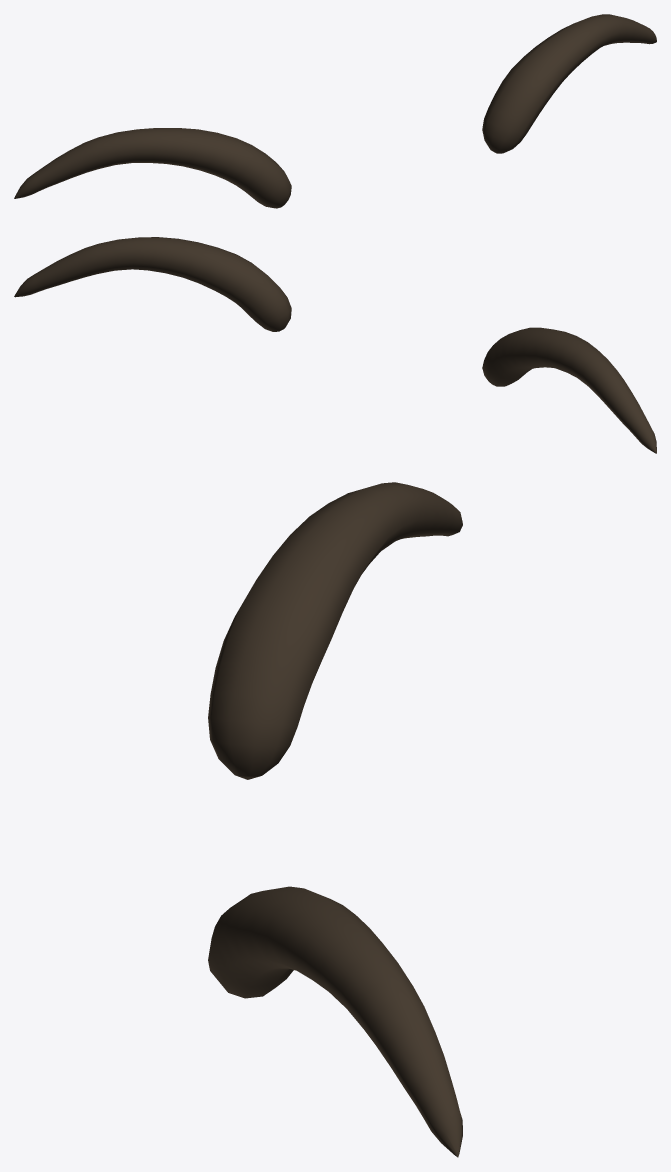
File: eyebrow_02.glb
3 renders of one model, top to bottom at view 1: azimuth 30°, elevation 25°; view 2: azimuth 150°, elevation 25°; view 3: azimuth 270°, elevation 25°, orthographic. The views are drawn at different scales.
Parts seen in each view (by area): view 1: rounded2, rounded1; view 2: rounded1, rounded2; view 3: rounded2, rounded1.
Part boxes in pixels (left/top/right/bottom): rounded2: left=14, top=128, right=291, bottom=208; rounded1: left=482, top=14, right=656, bottom=153; rounded1: left=14, top=237, right=291, bottom=331; rounded2: left=482, top=327, right=656, bottom=453; rounded2: left=208, top=482, right=462, bottom=779; rounded1: left=208, top=886, right=462, bottom=1157.
Size of the model in its own units: 0.0059 by 0.000734 by 0.00101.
